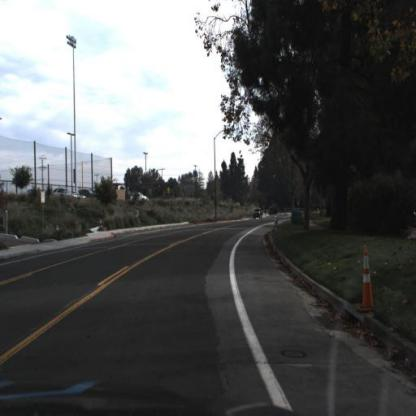car: (51, 186, 79, 201), (251, 204, 266, 225)
